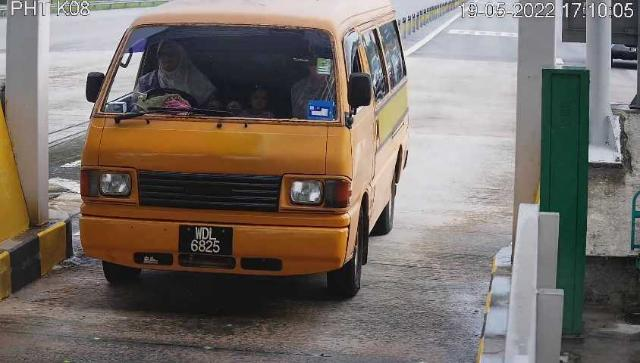License_Plate: (178, 224, 236, 261)
van: (80, 1, 410, 299)
